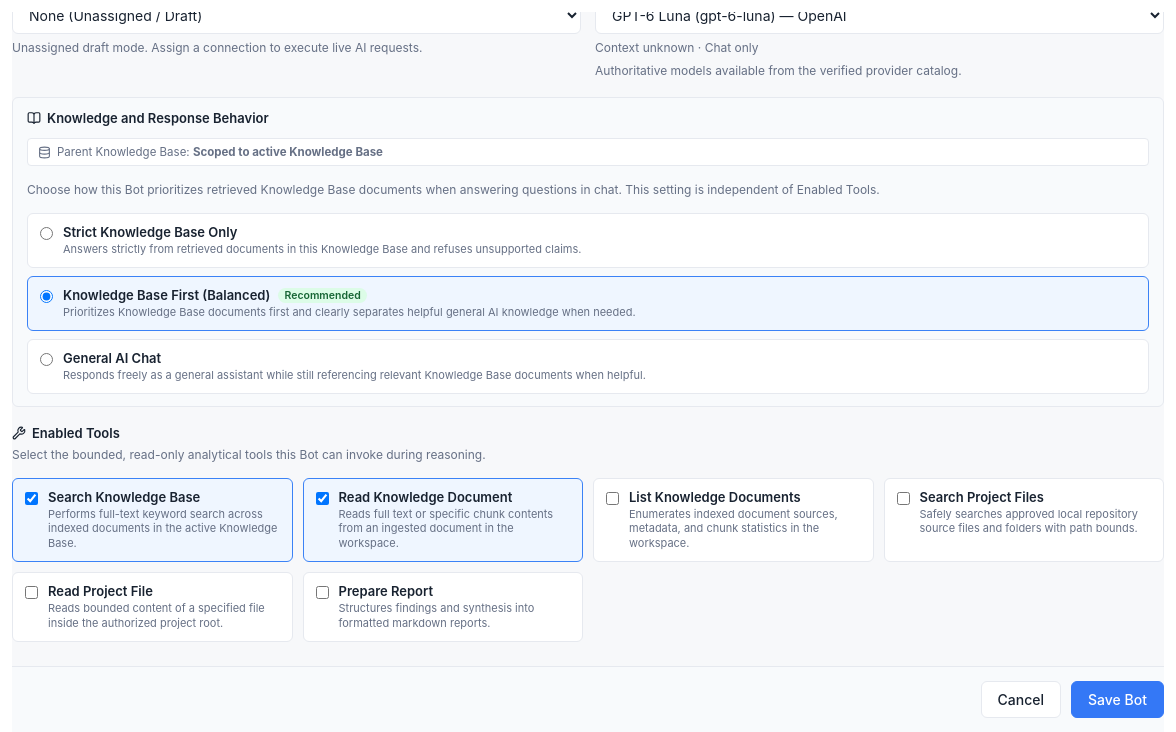
Renderer: BotConfigurationForm (Phase 6 Step 6.5) › 2. validates required Bot name on submit
This screenshot has width=1176, height=732.
(page scrolled)
Step 1. Click the button with test id "bot-form-submit-btn" → [1118, 700], box [1071,681,1164,718]
(page scrolled)
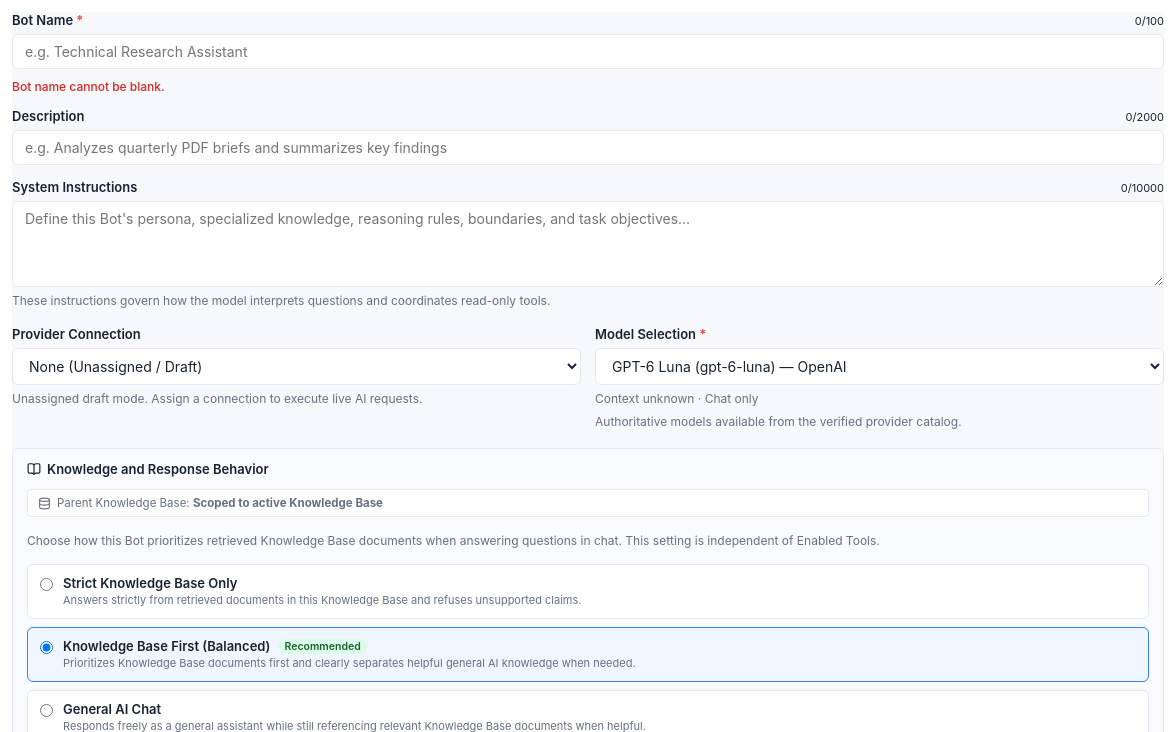
Expected: the text with test id "bot-name-error" reads "Bot name cannot be blank.", [12,79,165,94]
